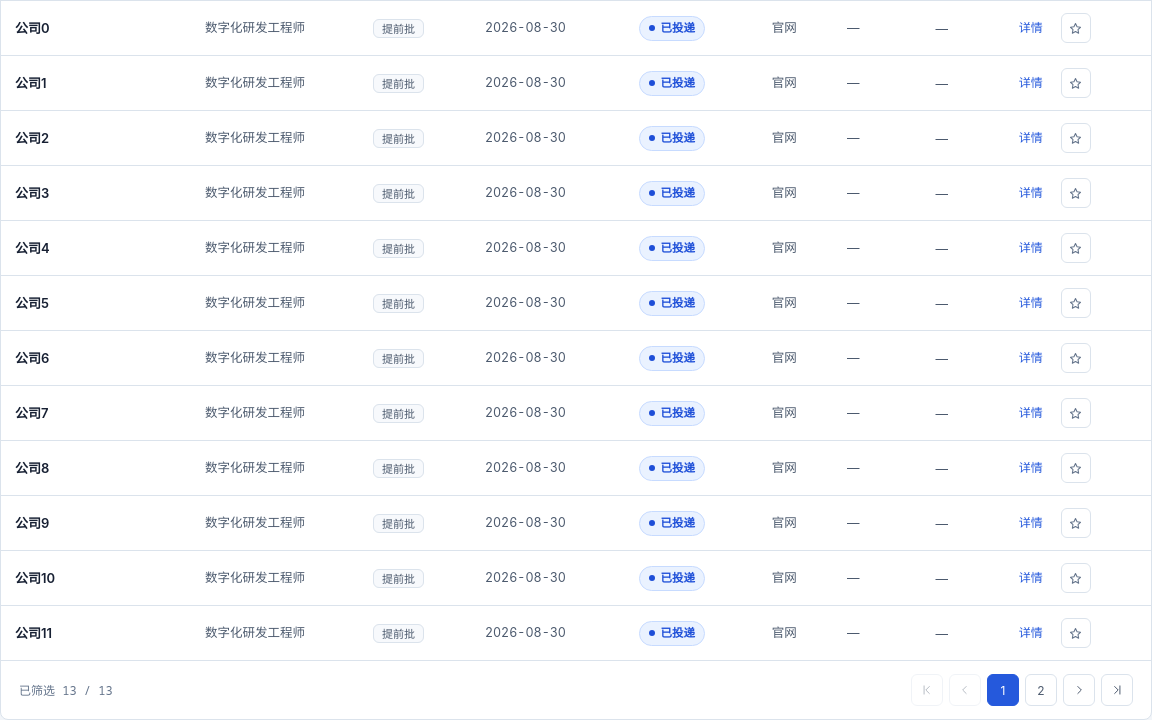
Scenario: ApplicationTable › 删除末页唯一记录后回到有效页，手机和桌面共用结果
This screenshot has width=1152, height=720.
(page scrolled)
Click the button named "末页" at (1117, 690), box left=1101, top=674, right=1133, bottom=706
(page scrolled)
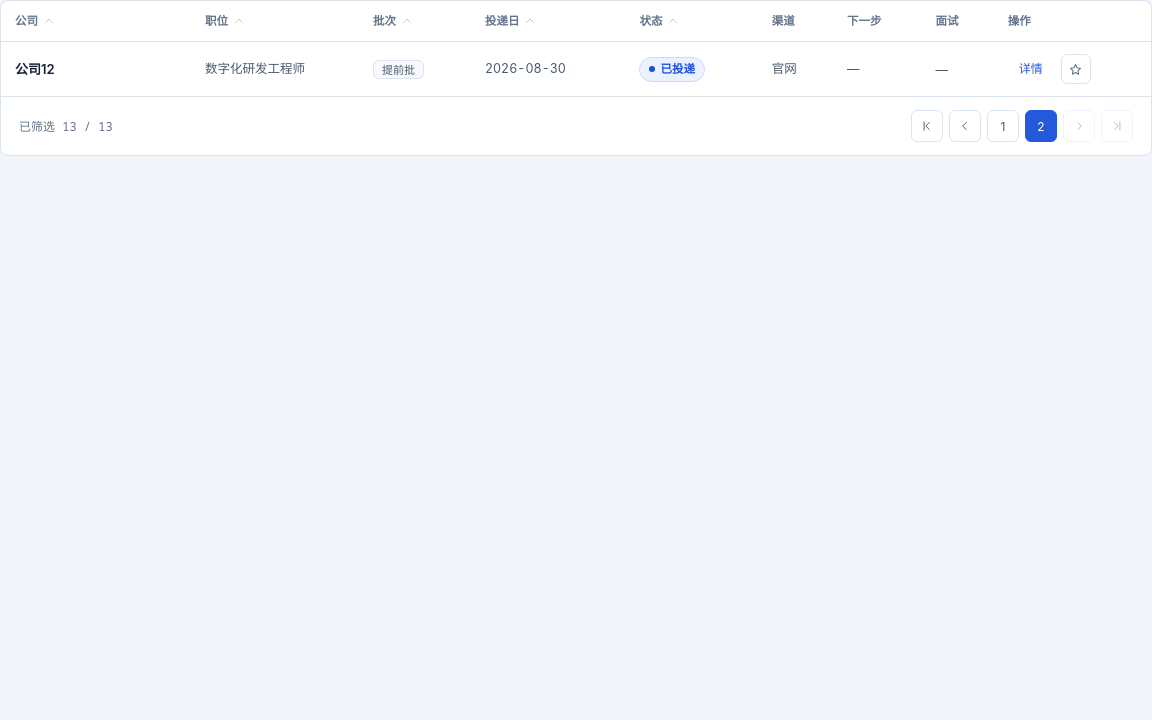
Check: the number of rows with class "app-row" is 1, box left=1, top=42, right=1151, bottom=96
